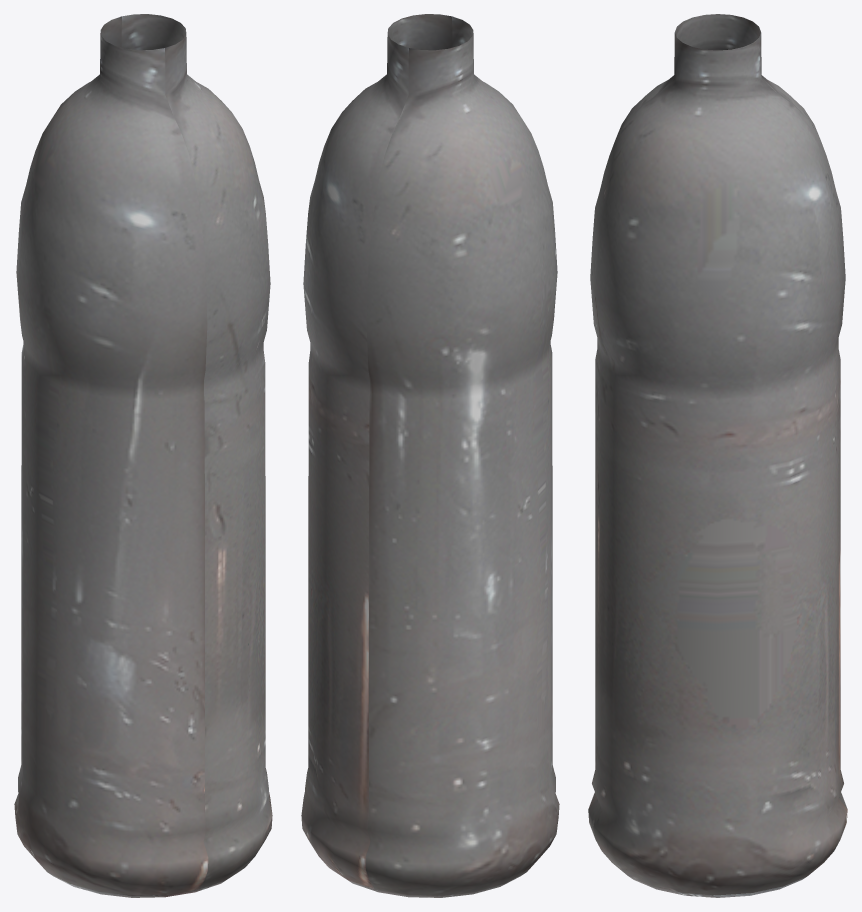
The model's file is bot1.FBX.
3 views of the same model, side by side, from view 1: azimuth 30°, elevation 25°; view 2: azimuth 150°, elevation 25°; view 3: azimuth 270°, elevation 25° (orthographic).
Parts seen in each view (by area): view 1: bottle1; view 2: bottle1; view 3: bottle1.
Boxes of the visible parts, box(x1,y1,x2,y2) form: bottle1: box(14, 14, 272, 897); bottle1: box(301, 14, 559, 897); bottle1: box(588, 14, 847, 897).
Size of the model in its own units: 71.05 by 250 by 71.05.
